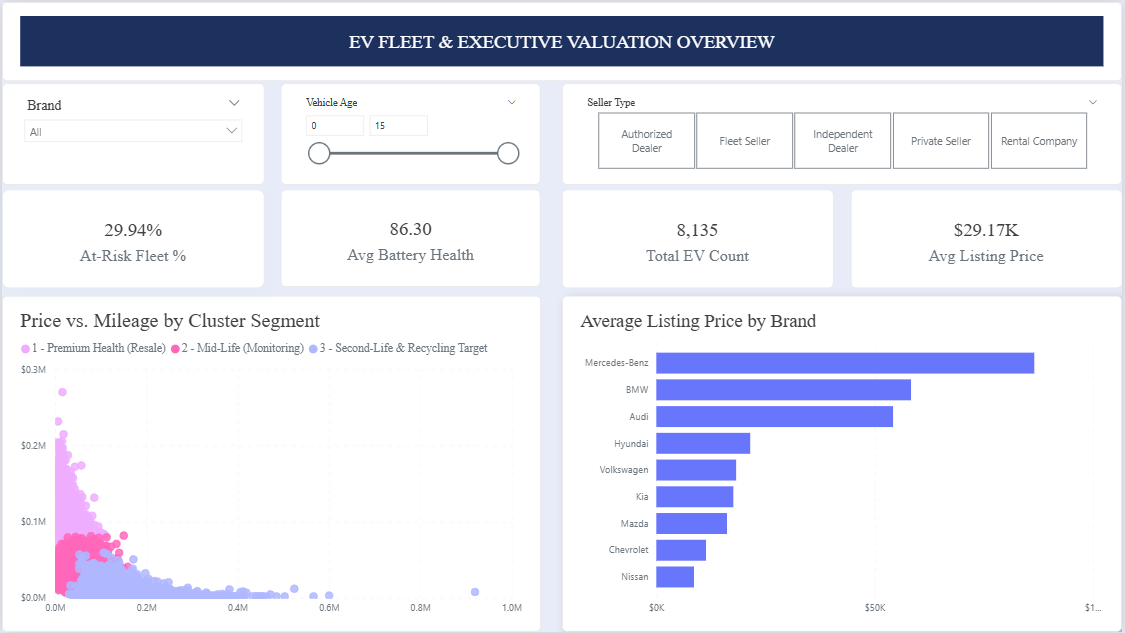

What the dashboard file says about the page in this screenshot:
{"tool":"powerbi","page":{"name":"Executive Overview","canvas":[1280,720],"ordinal":0},"visuals":[{"type":"card","fields":{"Values":["ev_cars_with_clusters.Avg Battery Health"]},"box":[318.6,214.3,297.1,111.4],"z":0},{"type":"card","fields":{"Values":["ev_cars_with_clusters.Avg Listing Price"]},"box":[970,214.3,310,112.9],"z":1000},{"type":"card","fields":{"Values":["ev_cars_with_clusters.Total EV Count"]},"box":[640,214.3,310,112.9],"z":2000},{"type":"scatterChart","title":"Price vs. Mileage by Cluster Segment","fields":{"X":["ev_cars_with_clusters.odometer_km"],"Y":["ev_cars_with_clusters.Avg Listing Price"],"Series":["ev_cars_with_clusters.Segment"]},"box":[0,335.7,615.7,384.3],"z":3000},{"type":"slicer","fields":{"Values":["ev_cars_with_clusters.make"]},"box":[0,92.9,300,115.7],"z":4000},{"type":"slicer","fields":{"Values":["ev_cars_with_clusters.vehicle_age"]},"box":[318.6,92.9,297.1,115.7],"z":5000},{"type":"slicer","fields":{"Values":["ev_cars_with_clusters.seller_type"]},"box":[640,92.9,640,115.7],"z":6000},{"type":"card","fields":{"Values":["ev_cars_with_clusters.At-Risk Fleet %"]},"box":[0,214.3,300,112.9],"z":7000},{"type":"clusteredBarChart","title":"Average Listing Price by Brand","fields":{"Category":["ev_cars_with_clusters.make"],"Y":["ev_cars_with_clusters.Avg Listing Price"]},"box":[640,335.7,640,384.3],"z":8000},{"type":"shape","box":[0,0,1280,90],"z":9000}]}

Visuals, with their boxes in screenshot pixels (x1, y1, x2, y2), scaled from the page's 1280x720 canvas onto the 1125x633 screenshot:
card - ev_cars_with_clusters.Avg Battery Health: region(280, 188, 541, 286)
card - ev_cars_with_clusters.Avg Listing Price: region(853, 188, 1124, 288)
card - ev_cars_with_clusters.Total EV Count: region(562, 188, 835, 288)
"Price vs. Mileage by Cluster Segment" scatterChart: region(0, 295, 541, 632)
slicer - ev_cars_with_clusters.make: region(0, 82, 264, 183)
slicer - ev_cars_with_clusters.vehicle_age: region(280, 82, 541, 183)
slicer - ev_cars_with_clusters.seller_type: region(562, 82, 1124, 183)
card - ev_cars_with_clusters.At-Risk Fleet %: region(0, 188, 264, 288)
"Average Listing Price by Brand" clusteredBarChart: region(562, 295, 1124, 632)
shape: region(0, 0, 1124, 79)
